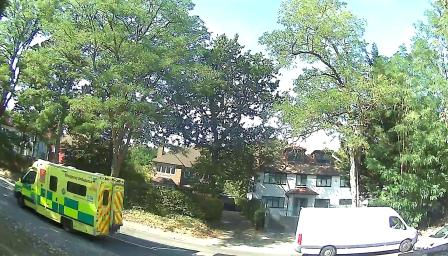Cars: (17, 160, 124, 240), (290, 197, 422, 251), (401, 224, 448, 256)
